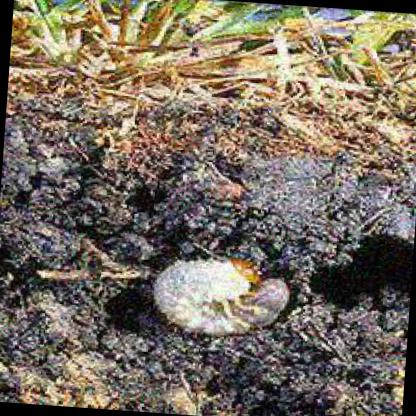root grubs: (152, 258, 295, 335)
